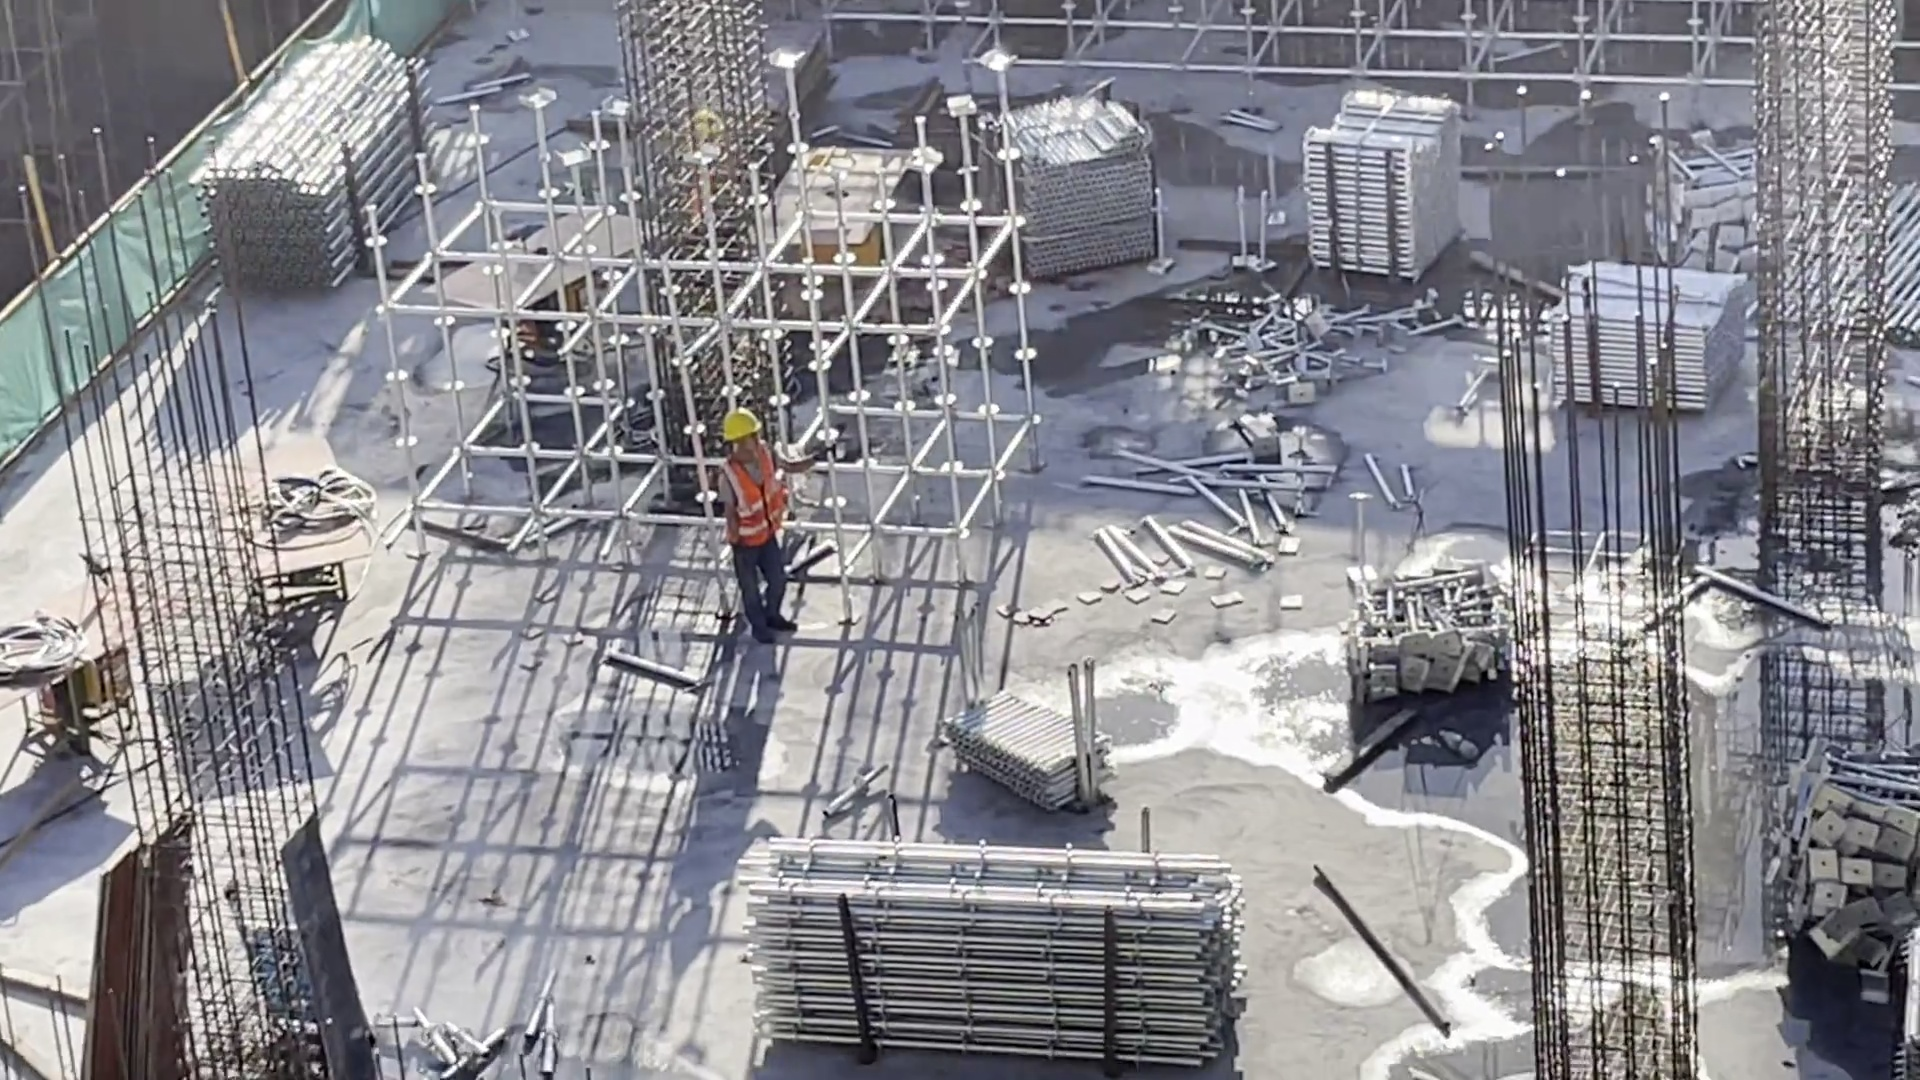board: (77, 817, 214, 1069)
cutter: (152, 431, 399, 650), (425, 201, 654, 376), (1, 546, 185, 764), (719, 149, 928, 283)
helmet: (726, 405, 764, 441)
person: (710, 415, 800, 649)
scaffold: (757, 838, 1216, 1069), (213, 27, 449, 283), (963, 94, 1171, 297), (1785, 773, 1920, 1010), (1559, 247, 1752, 404), (1303, 89, 1452, 277), (1638, 138, 1807, 302), (1340, 551, 1525, 688), (938, 673, 1129, 794)
vest: (723, 448, 786, 544)
